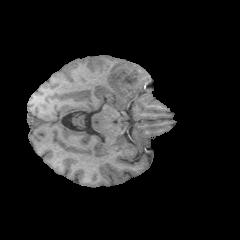glioma: (100, 58, 151, 105)
